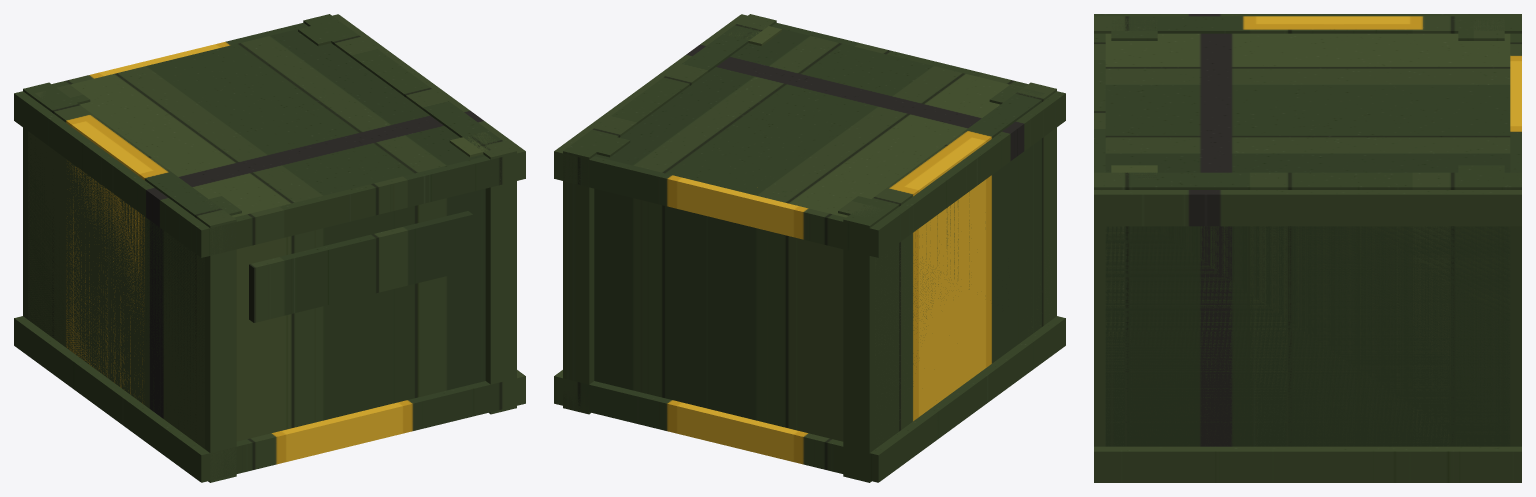
Rendered from ammo_crate.glb.
The picture shows the model from 3 angles, left to right: view 1: azimuth 30°, elevation 25°; view 2: azimuth 150°, elevation 25°; view 3: azimuth 270°, elevation 25°; orthographic projection. The views are drawn at different scales.
Parts seen in each view (by area): view 1: AmmoCrate_Mesh; view 2: AmmoCrate_Mesh; view 3: AmmoCrate_Mesh.
Boxes of the visible parts, x1,y1,x2,y2 form: AmmoCrate_Mesh: [14, 14, 525, 482]; AmmoCrate_Mesh: [554, 14, 1065, 482]; AmmoCrate_Mesh: [1094, 14, 1521, 482].
Size of the model in its own units: 0.74 by 0.56 by 0.74.
1 material, 1 textured.
